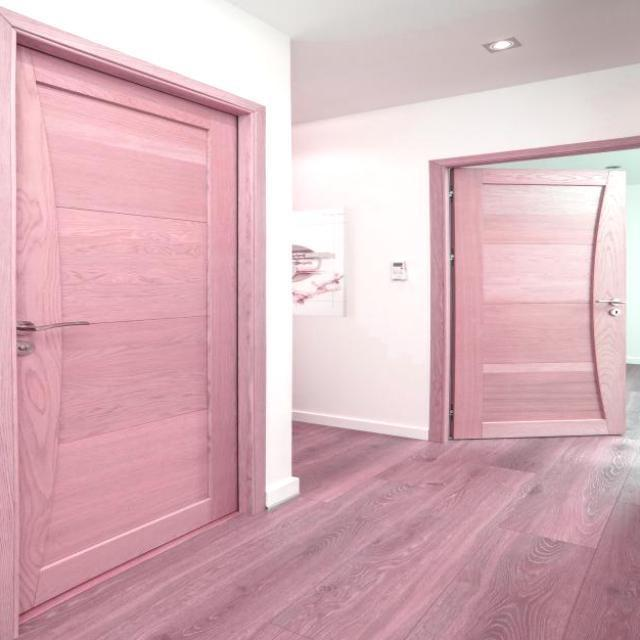door: (3, 12, 260, 626), (449, 164, 627, 439)
